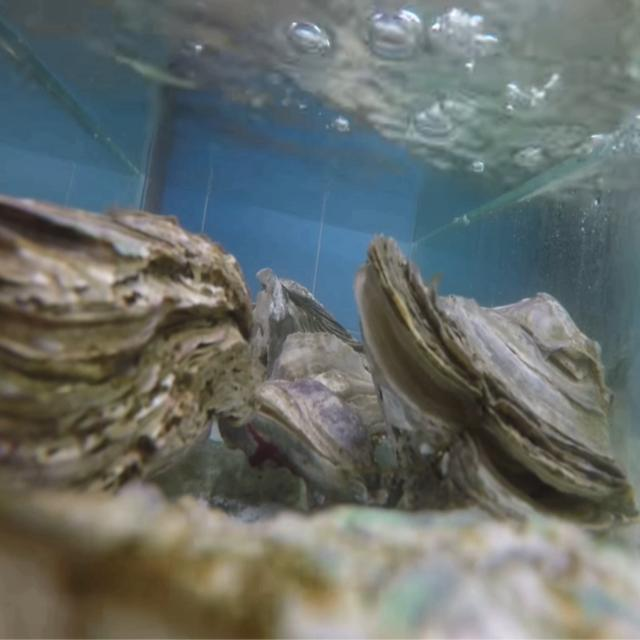Oyster-Closed: (0, 194, 256, 523), (249, 330, 410, 508)
Oyster-Indeterminate: (0, 481, 640, 640)
Oyster-Open: (353, 235, 640, 546)
